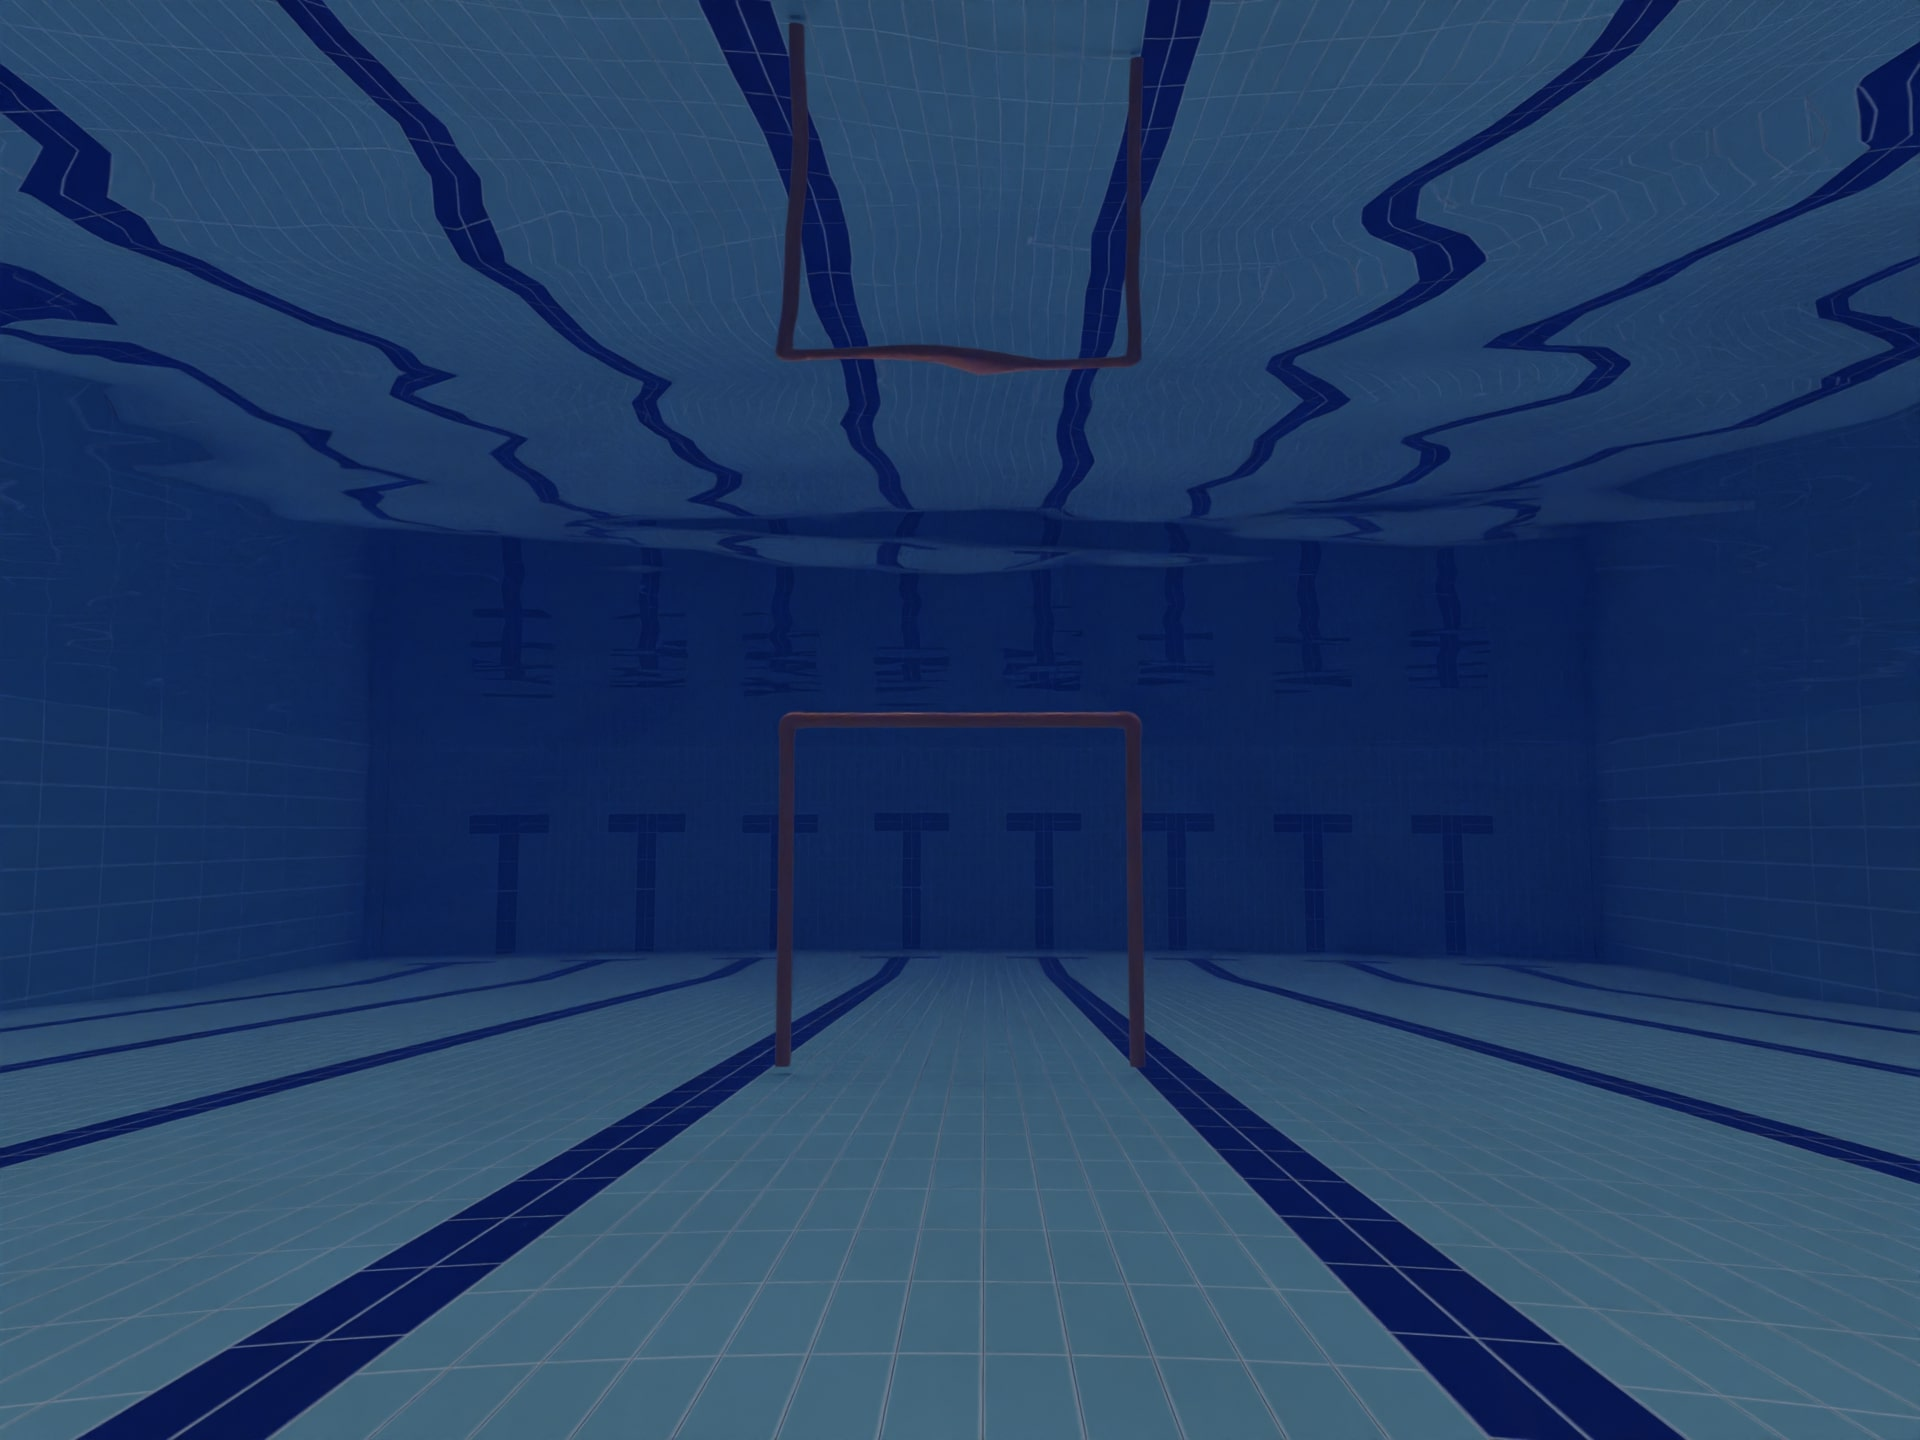gate: (762, 694, 1181, 1091)
